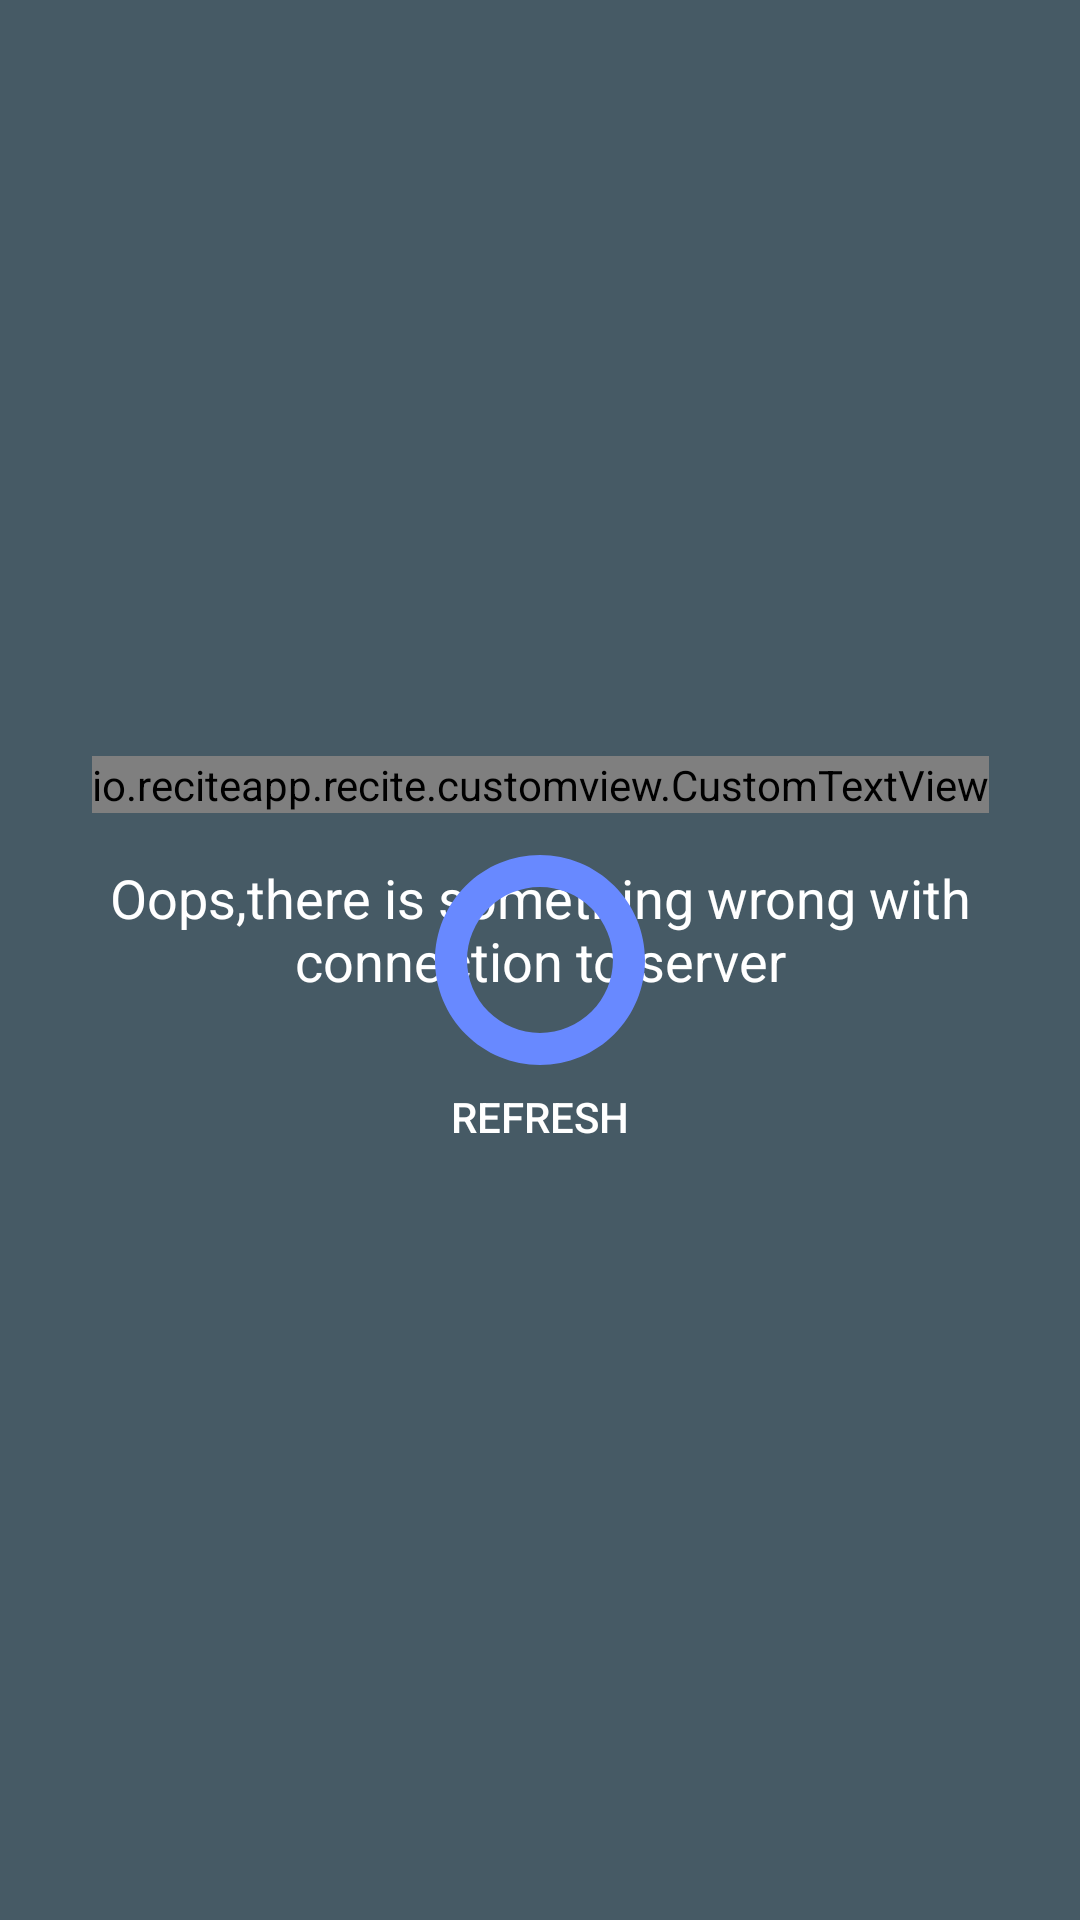

Point at icon controls on the screen. Image size 1080w x 1920h, points as (x,y).
anim loading: (540,960)
